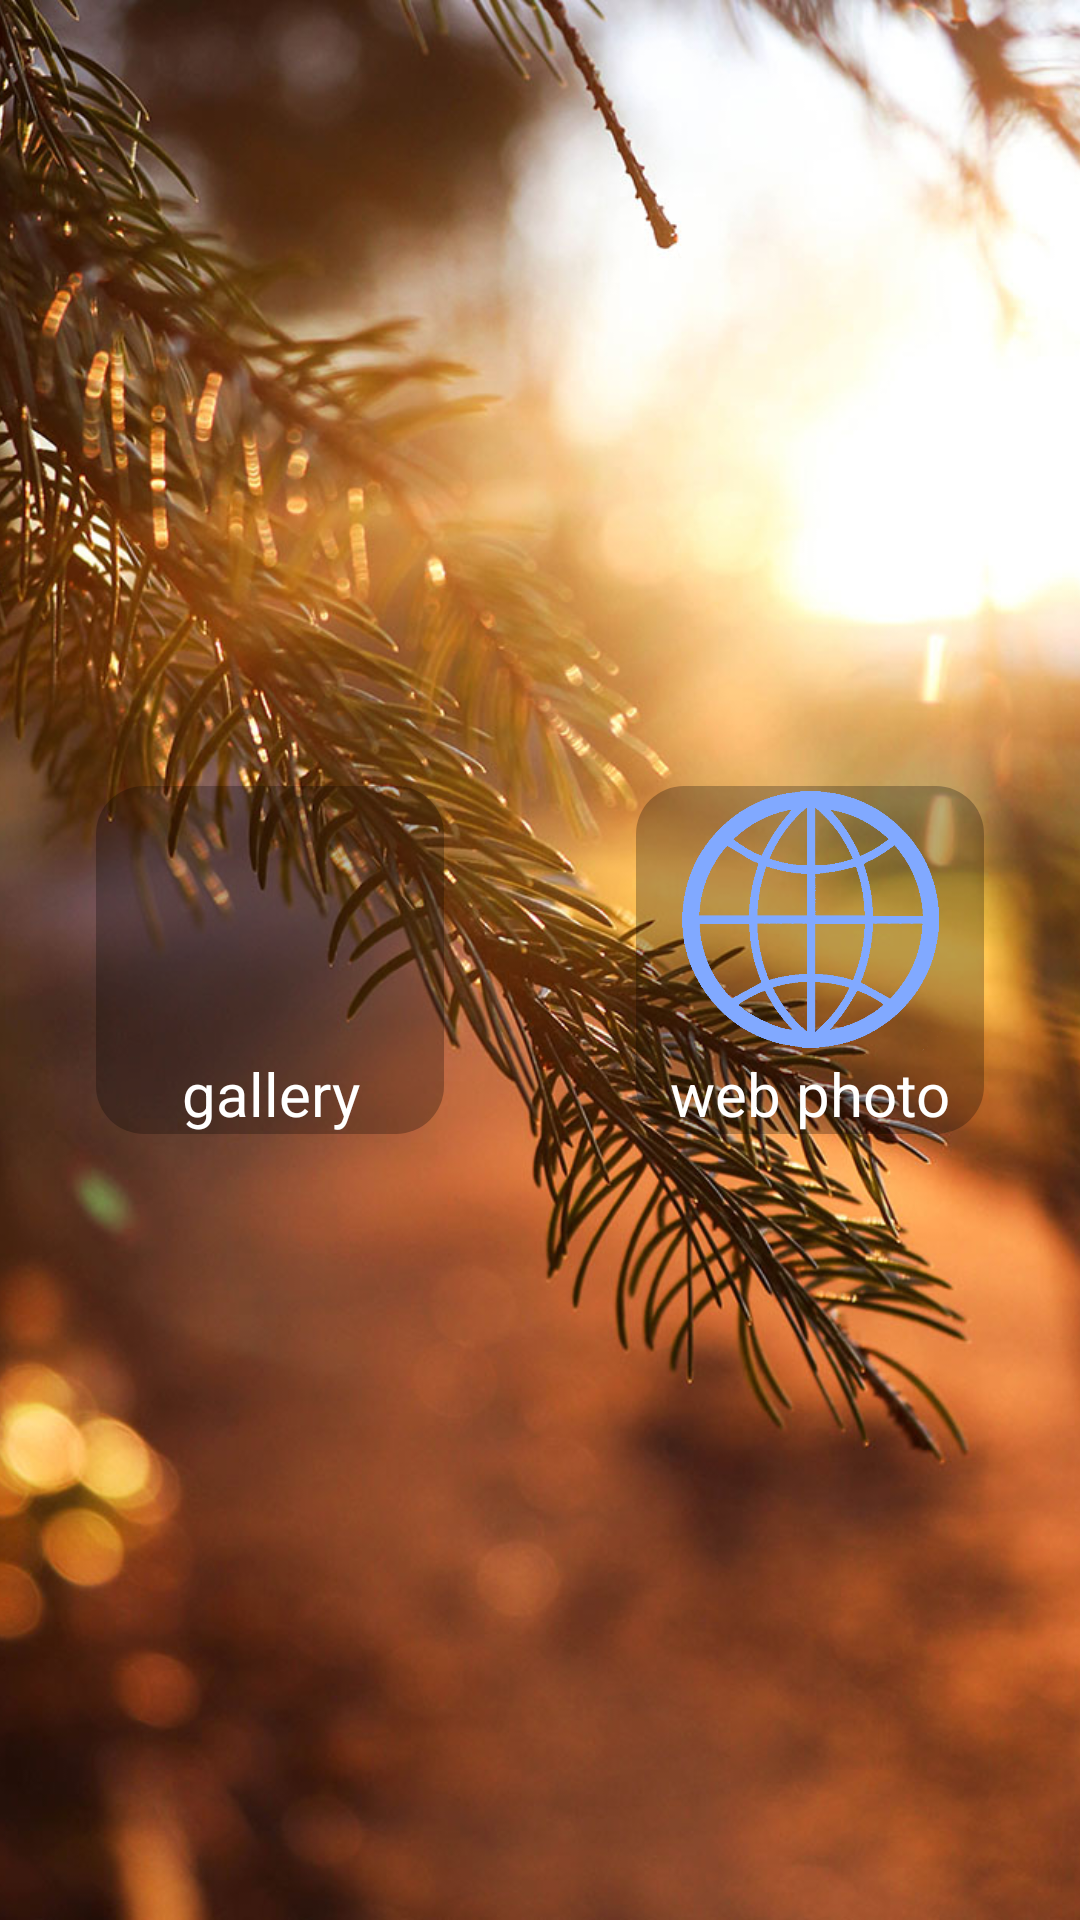

Named icons in this screenshot (1080x1920) and their centers, point (x, y):
internet rgb: point (810, 919)
